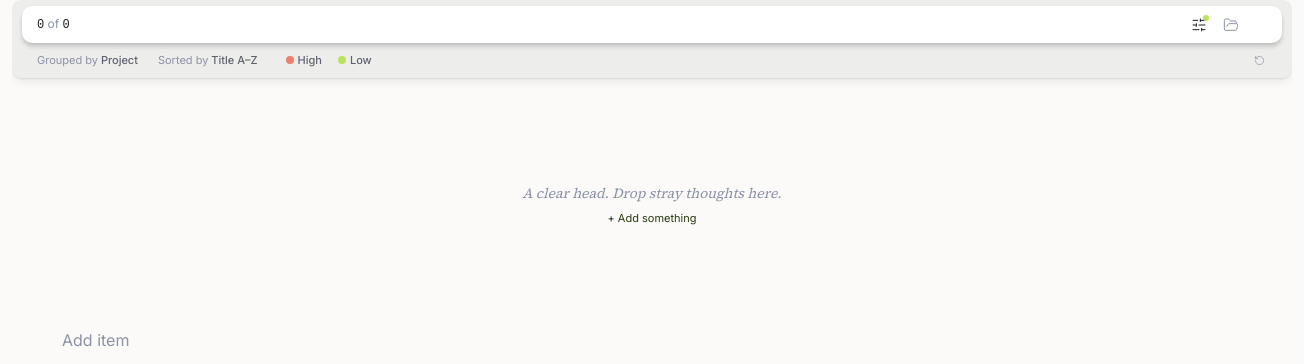
Test: the two mounts › gives the Reset button the header's own tooltip on a pointer, never a native title
The image size is (1304, 364).
Hover over the button with test id "display-shelf-reset-braindump" at point(1259, 60), box [1251, 51, 1267, 69]
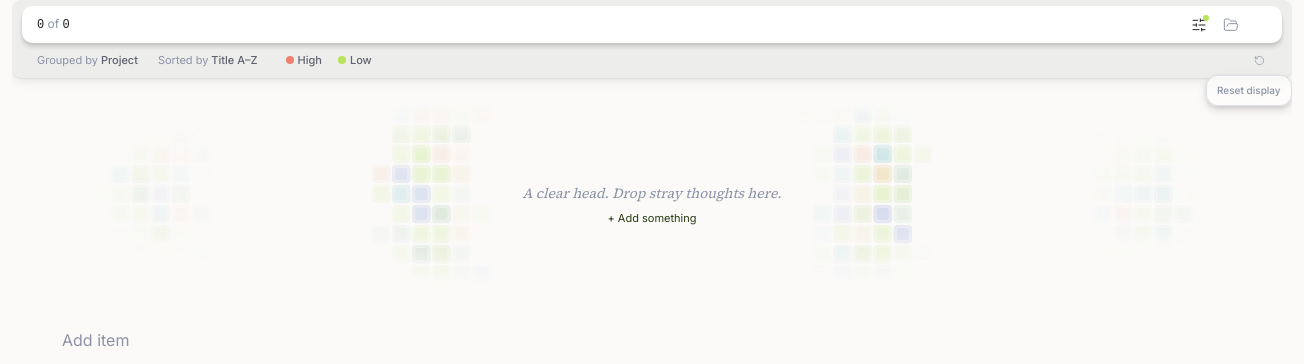
Expected: the tooltip reads "Reset display", [1217, 84, 1281, 96]
